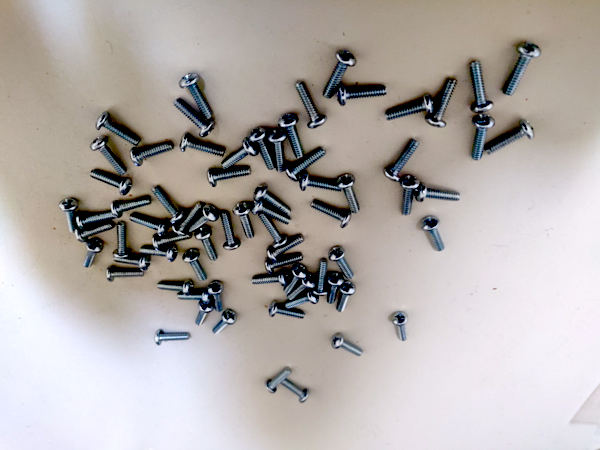shortscrew: (503, 42, 542, 97), (484, 120, 535, 156), (425, 77, 459, 128), (323, 50, 357, 100), (174, 98, 216, 138), (96, 111, 141, 147), (179, 73, 213, 120), (295, 82, 328, 129), (384, 140, 420, 183), (285, 147, 327, 183), (385, 93, 436, 122), (90, 137, 128, 175), (152, 184, 185, 224), (470, 61, 495, 113), (310, 199, 352, 229), (254, 183, 292, 216), (221, 137, 259, 170), (172, 201, 205, 237), (278, 114, 304, 159), (180, 132, 225, 158), (130, 141, 174, 167), (90, 169, 132, 196), (472, 114, 496, 161), (259, 212, 289, 249), (337, 84, 387, 106), (267, 234, 305, 262), (252, 200, 292, 225), (207, 166, 252, 188), (336, 174, 360, 214), (129, 213, 169, 237), (187, 205, 220, 234), (415, 182, 460, 203), (111, 196, 152, 218), (265, 252, 304, 275), (220, 211, 242, 251), (75, 221, 115, 243), (329, 246, 354, 281), (421, 216, 445, 252), (299, 172, 342, 192), (195, 226, 218, 262), (183, 249, 208, 282), (233, 202, 255, 239), (288, 273, 317, 301), (401, 176, 421, 216), (284, 264, 309, 295), (331, 334, 364, 357), (269, 300, 306, 320), (265, 367, 292, 394), (140, 244, 178, 263), (59, 198, 79, 234), (83, 238, 105, 269), (286, 289, 320, 309), (212, 309, 238, 335), (153, 234, 192, 251), (106, 266, 145, 283), (78, 212, 112, 231), (282, 380, 310, 403), (252, 270, 289, 287), (114, 254, 151, 271), (114, 222, 131, 259), (337, 280, 356, 313), (313, 258, 329, 297), (327, 272, 345, 305), (157, 280, 194, 296), (154, 330, 191, 346), (178, 290, 212, 306), (208, 281, 225, 312), (196, 300, 216, 326), (392, 312, 409, 342)
